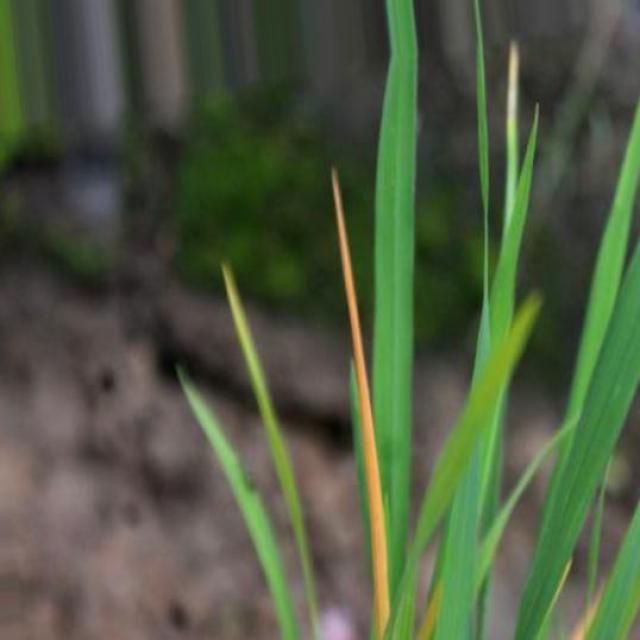Rice Tungro: (332, 167, 390, 638)
